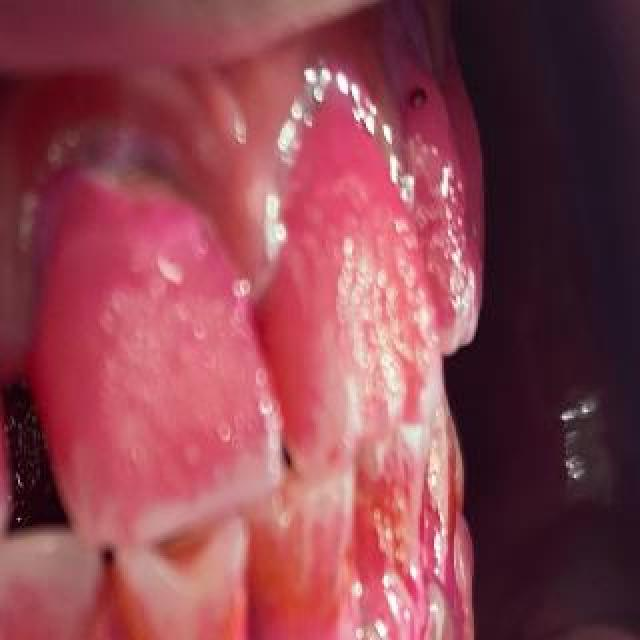plaque: (0, 296, 428, 640), (34, 157, 281, 530), (269, 101, 442, 446), (0, 474, 166, 640), (254, 516, 354, 640), (200, 586, 252, 640), (74, 573, 110, 640), (0, 602, 50, 640), (0, 399, 8, 508)
spacing: (0, 316, 88, 558)
